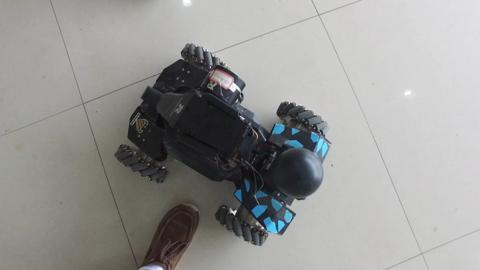chariot: (102, 31, 325, 231)
